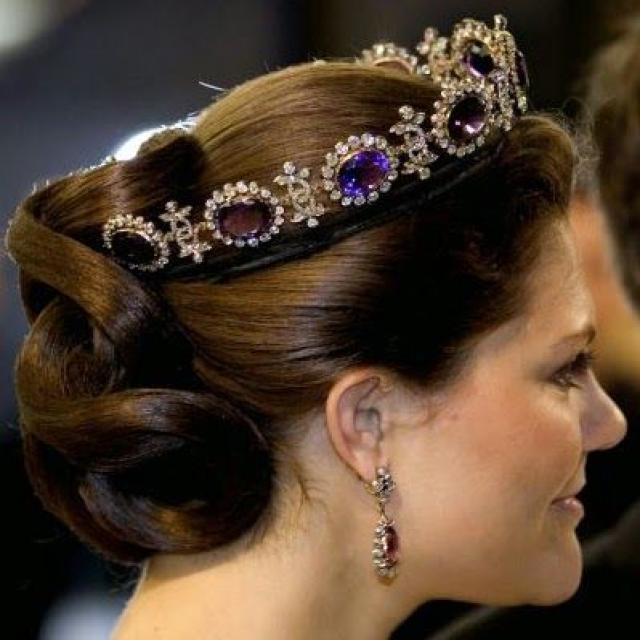Earring: (342, 459, 418, 594)
